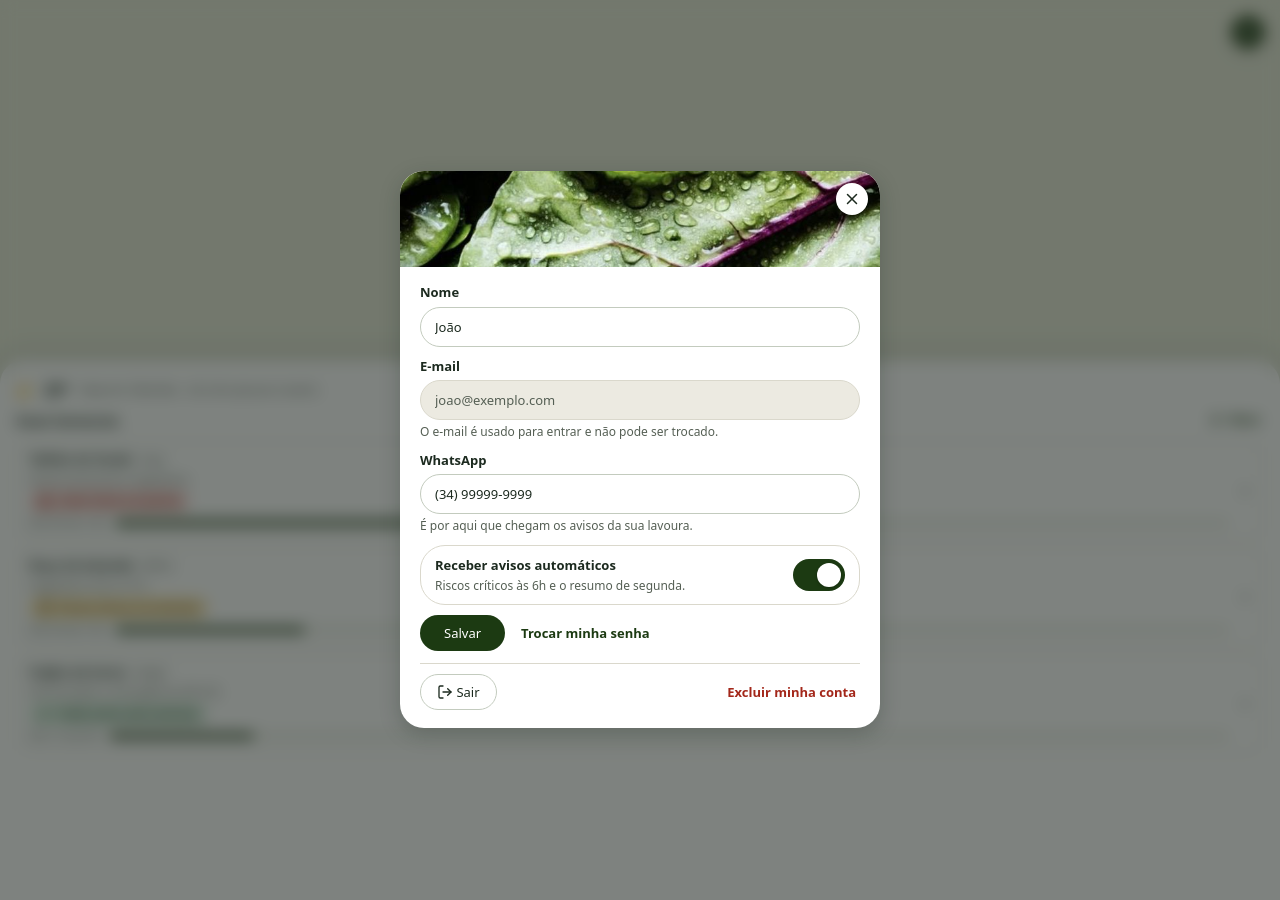
Test: Minha conta › o WhatsApp de outra conta avisa embaixo do campo
This screenshot has width=1280, height=900.
Expected: the field labelled "Nome" is shown, x1=420 y1=307 x2=860 y2=347
Type "(34) 90000-0000" into the field labelled "WhatsApp" at (640, 495), box x1=420 y1=475 x2=860 y2=515
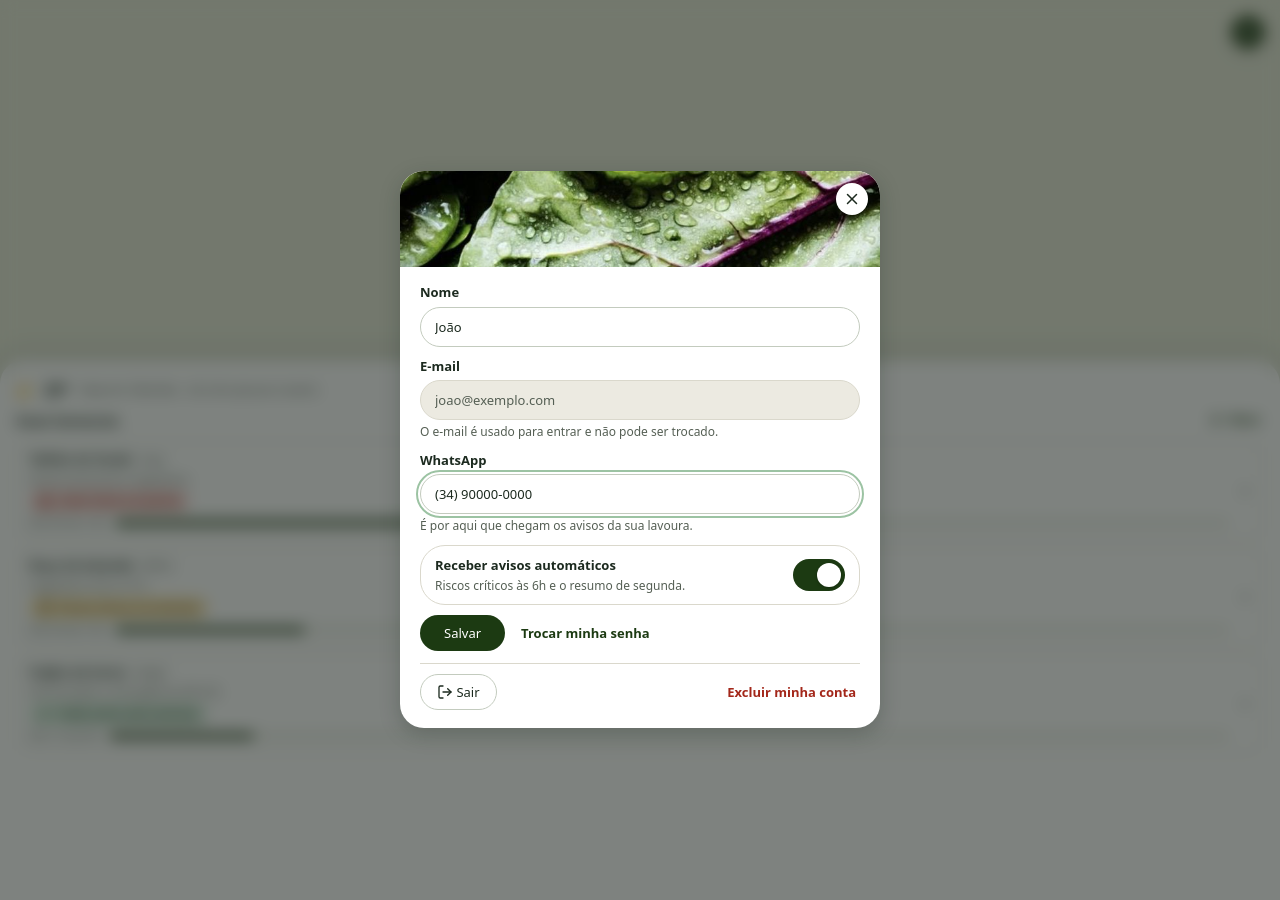
Click the button "Salvar" at (463, 634), box x1=420 y1=616 x2=505 y2=652
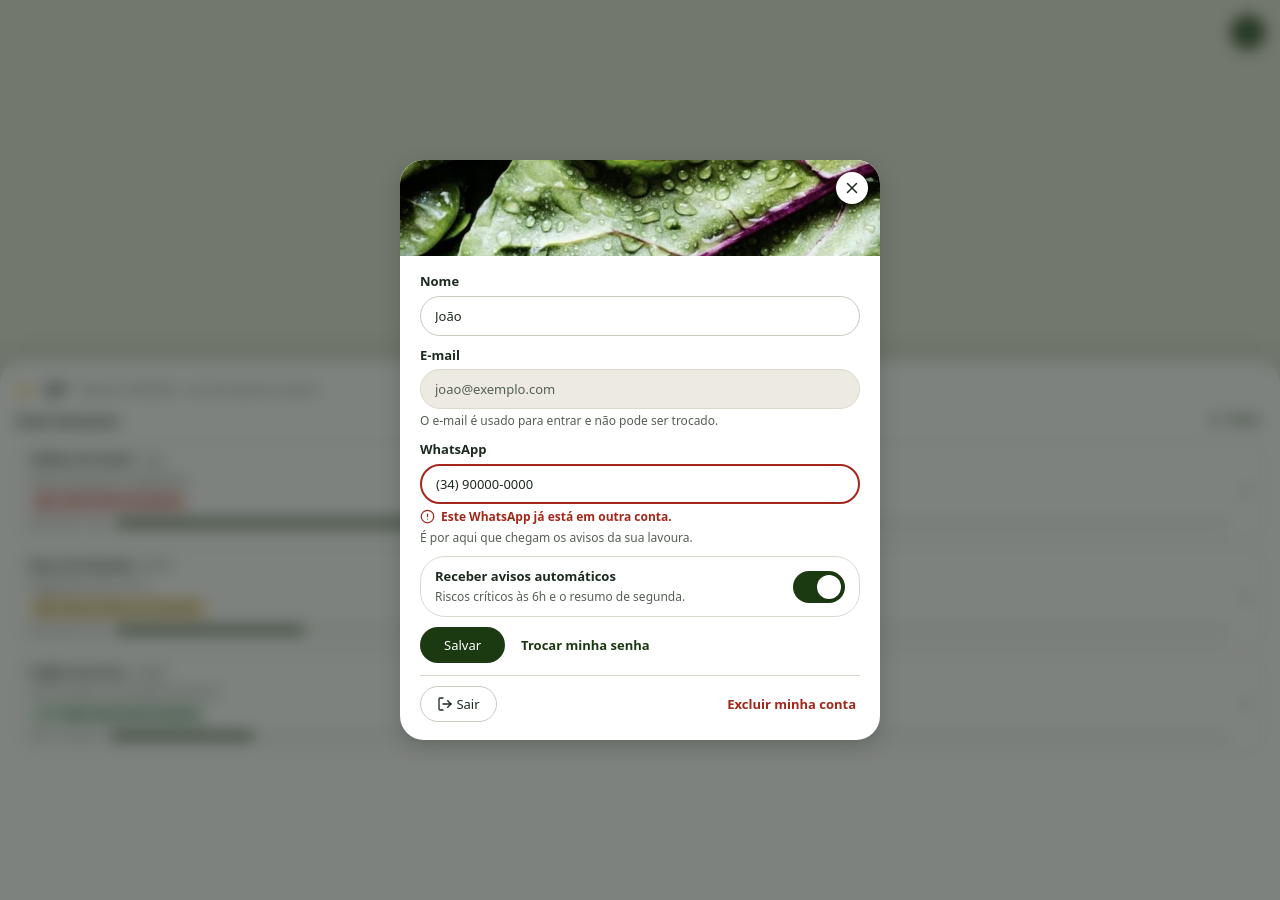
Expected: the text "Este WhatsApp já está em outra conta." is shown, x1=420 y1=508 x2=672 y2=525
